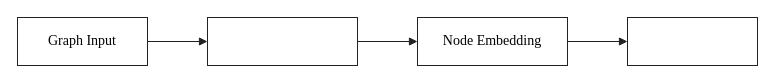
The diagram is 775 pixels wide and 83 high, and some of its shapes have lost their labels. The box of each missing label's shape, as (x1, y1, x2, y2) in pixels:
Message Passing: (206, 16, 358, 66)
Prediction: (626, 16, 758, 66)
